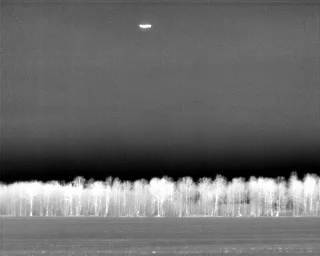DRONE: (136, 20, 155, 33)
